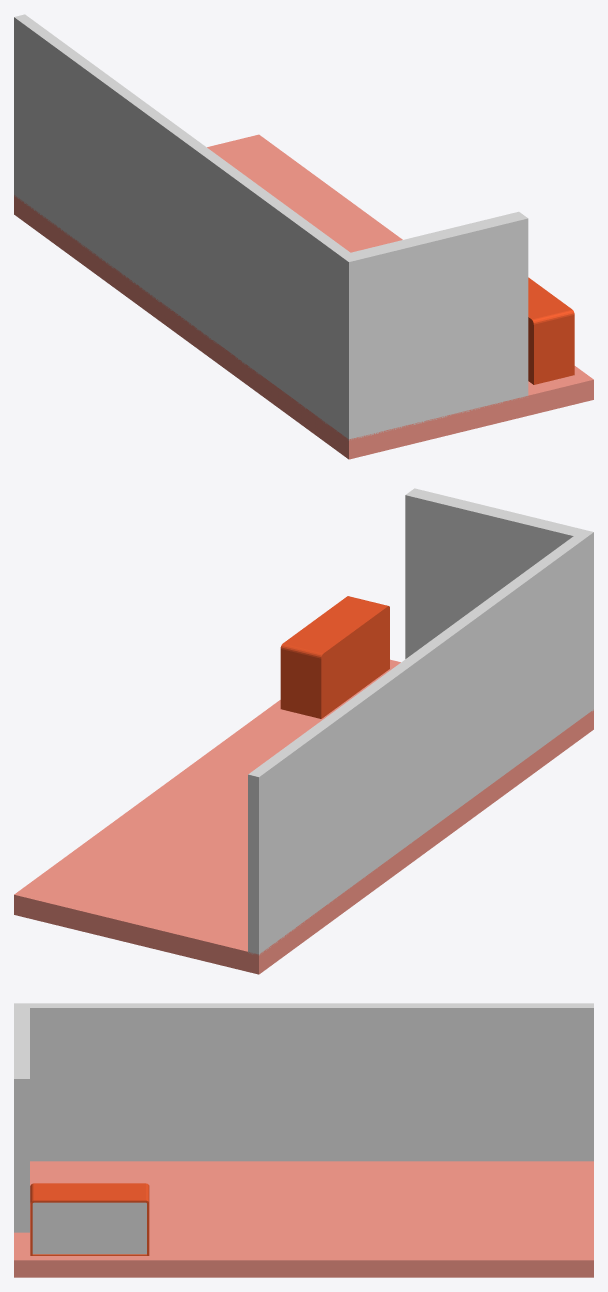
The model's file is stallmodel.glb.
3 renders of one model, top to bottom at view 1: azimuth 30°, elevation 25°; view 2: azimuth 150°, elevation 25°; view 3: azimuth 270°, elevation 25°, orthographic. The views are drawn at different scales.
Parts seen in each view (by area): view 1: Cube.002, Cube, Cube.001; view 2: Cube.002, Cube, Cube.001; view 3: Cube.002, Cube, Cube.001.
Boxes of the visible parts, x1,y1,x2,y2 form: Cube.002: (14, 14, 528, 440); Cube: (14, 134, 593, 459); Cube.001: (528, 277, 574, 384); Cube.002: (248, 488, 593, 955); Cube: (14, 659, 593, 974); Cube.001: (280, 596, 389, 718); Cube.002: (14, 1003, 593, 1232); Cube: (14, 1161, 593, 1277); Cube.001: (30, 1183, 149, 1255).
Bounding box in the file's own units: 8.52 × 6.56 × 20.17.
